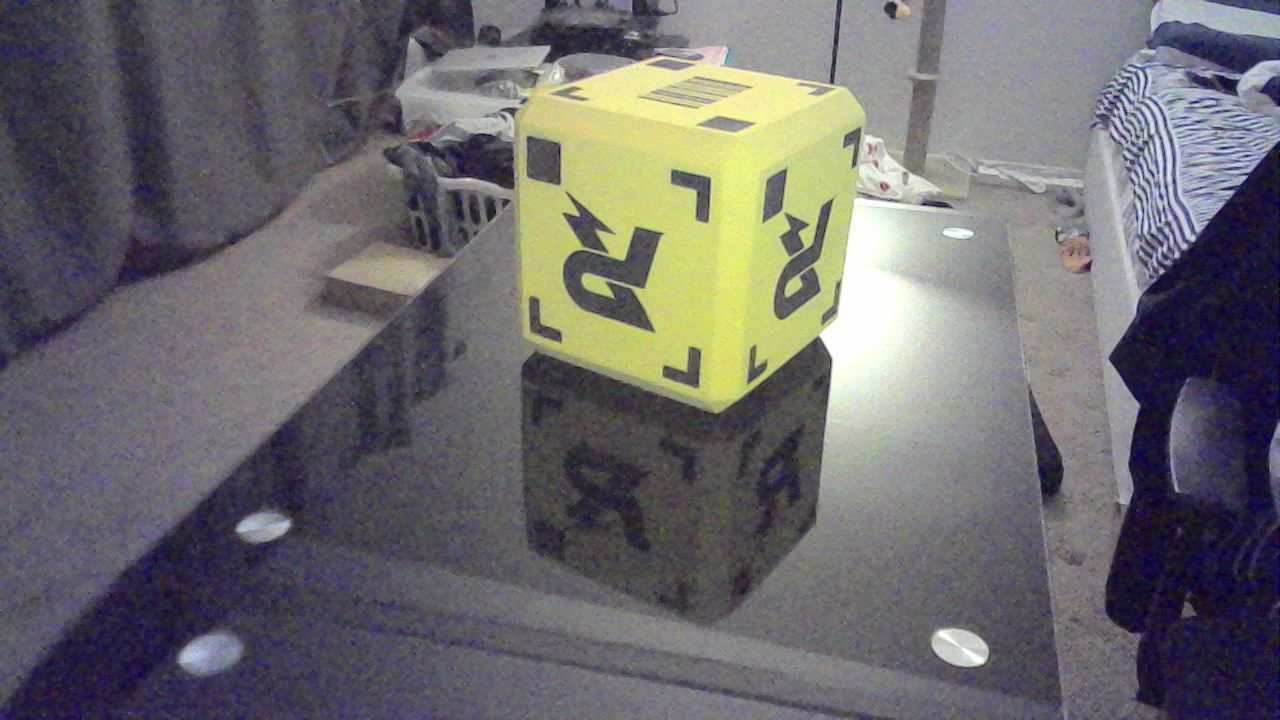Barcode: (648, 78, 756, 111)
R: (556, 201, 681, 333), (777, 206, 834, 321)
